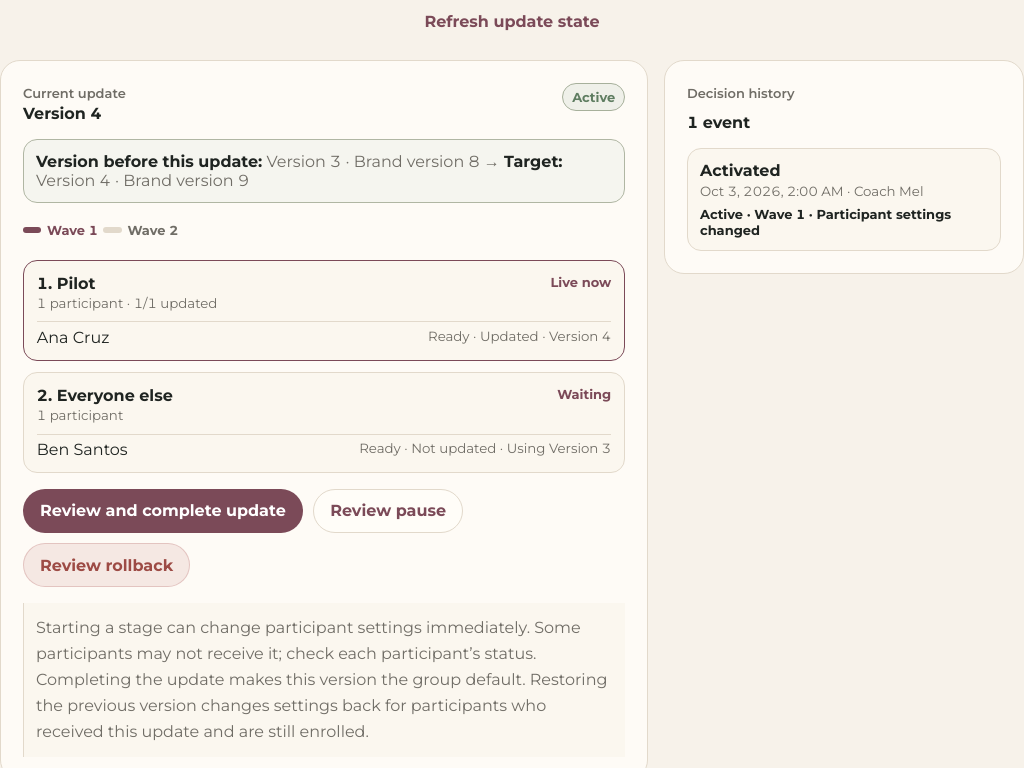
Test case: CohortRolloutStudio › explains and completes the cohort-default promotion from returned transition evidence
Click the button "Review and complete update". click: (163, 511)
box: [23,489,303,533]
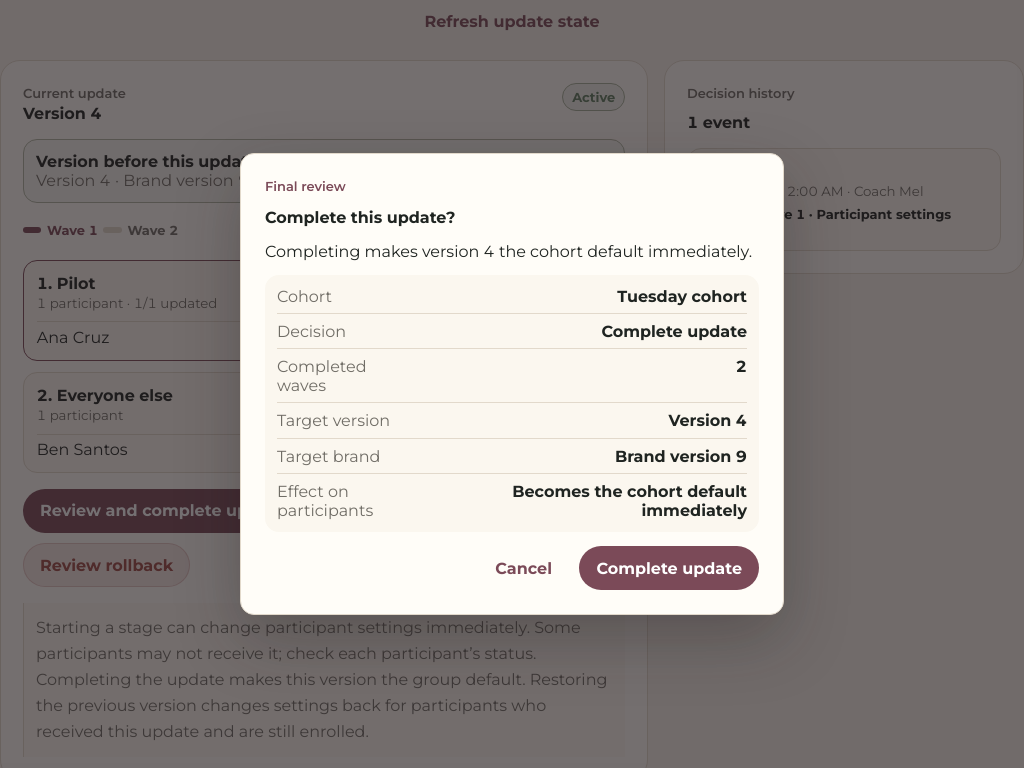
Expected: the text "Completing makes version 4 the cohort default immediately." is shown, [265,242,759,260]
Expected: the text "Becomes the cohort default immediately" is shown, [512,482,747,520]
Click the button "Complete update". click: (669, 568)
box: [579,546,759,590]
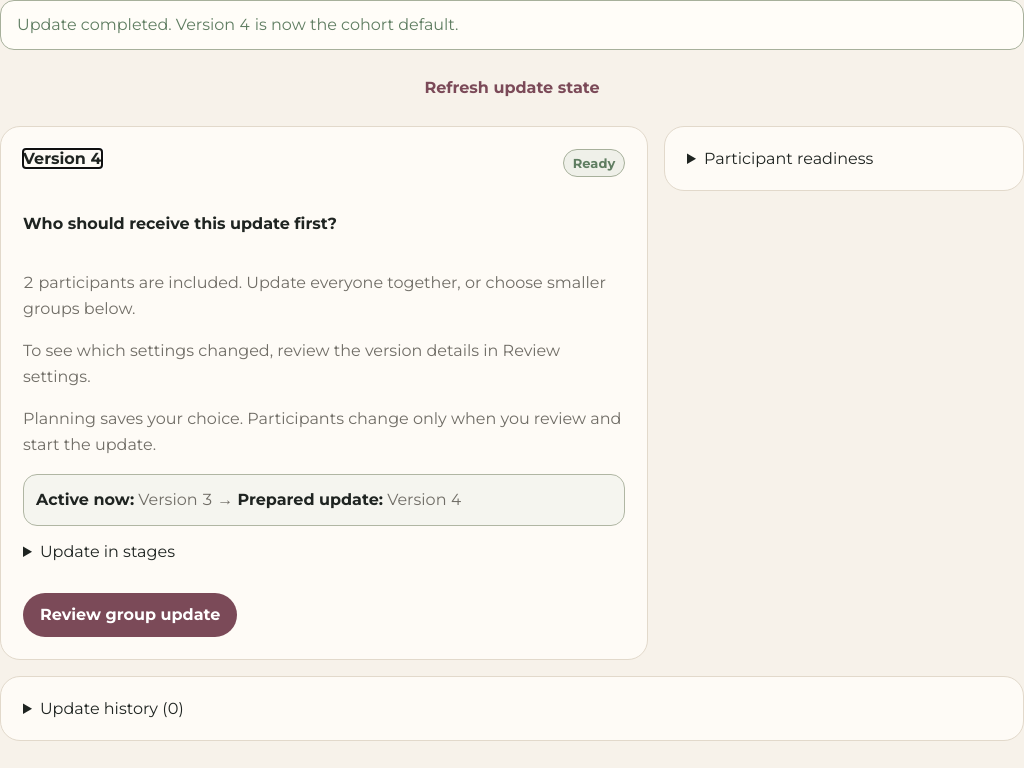
Expected: the text "Update completed. Version 4 is now the cohort default." is shown, [0,0,1023,50]
